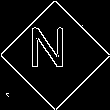N_S: (35, 30, 75, 80)
